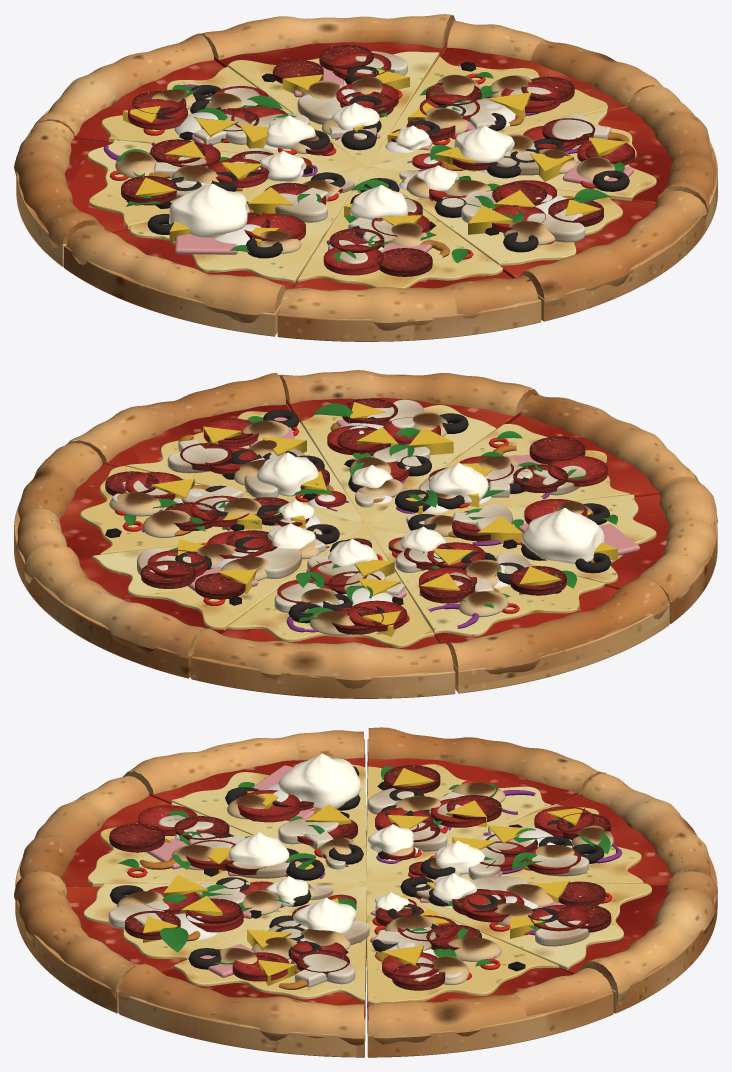
File: pizza.glb
3 views of the same model, one above another, from view 1: azimuth 30°, elevation 25°; view 2: azimuth 150°, elevation 25°; view 3: azimuth 270°, elevation 25° (orthographic).
Visible parts, largest first — view 1: Crust, Cheese, Sauce_tomato, Topping_mushroom, Topping_salami, Topping_pepperoni, Topping_burrata, Topping_chicken, Topping_pineapple, Topping_olive, Topping_basil, Topping_ham (+4 smaller); view 2: Crust, Cheese, Sauce_tomato, Topping_salami, Topping_mushroom, Topping_chicken, Topping_pepperoni, Topping_burrata, Topping_pineapple, Topping_olive, Topping_basil, Topping_fior (+5 smaller); view 3: Crust, Cheese, Sauce_tomato, Topping_mushroom, Topping_salami, Topping_pepperoni, Topping_burrata, Topping_chicken, Topping_pineapple, Topping_olive, Topping_basil, Topping_ham (+5 smaller).
Boxes of the visible parts, x1,y1,x2,y2 form: Crust: (14, 14, 717, 341); Cheese: (87, 51, 656, 288); Sauce_tomato: (64, 41, 680, 290); Topping_mushroom: (154, 51, 611, 263); Topping_salami: (121, 44, 635, 276); Topping_pepperoni: (128, 52, 633, 275); Topping_burrata: (169, 103, 514, 237); Topping_chicken: (115, 74, 614, 253); Topping_pineapple: (123, 69, 627, 246); Topping_olive: (147, 66, 629, 258); Topping_basil: (117, 55, 624, 263); Topping_ham: (171, 66, 633, 254); Crust: (14, 370, 717, 698); Cheese: (80, 405, 656, 647); Sauce_tomato: (59, 397, 669, 650); Topping_salami: (105, 398, 585, 634); Topping_mushroom: (112, 399, 585, 612); Topping_chicken: (109, 411, 591, 635); Topping_pepperoni: (125, 417, 607, 631); Topping_burrata: (256, 452, 604, 566); Topping_pineapple: (151, 402, 617, 636); Topping_olive: (175, 410, 611, 623); Topping_basil: (124, 403, 617, 622); Topping_fior: (173, 423, 510, 605); Crust: (14, 727, 717, 1057); Cheese: (83, 764, 651, 1004); Sauce_tomato: (61, 752, 675, 1019); Topping_mushroom: (108, 788, 589, 987); Topping_salami: (109, 765, 611, 990); Topping_pepperoni: (138, 790, 594, 981); Topping_burrata: (228, 753, 484, 933); Topping_chicken: (117, 782, 613, 984); Topping_pineapple: (143, 768, 584, 985); Topping_olive: (109, 766, 604, 969); Topping_basil: (118, 766, 610, 966); Topping_ham: (146, 765, 597, 977).
Bounding box in the file's own units: 4.03 × 0.4606 × 4.02.
Materials: 23 (7 with a texture image).
